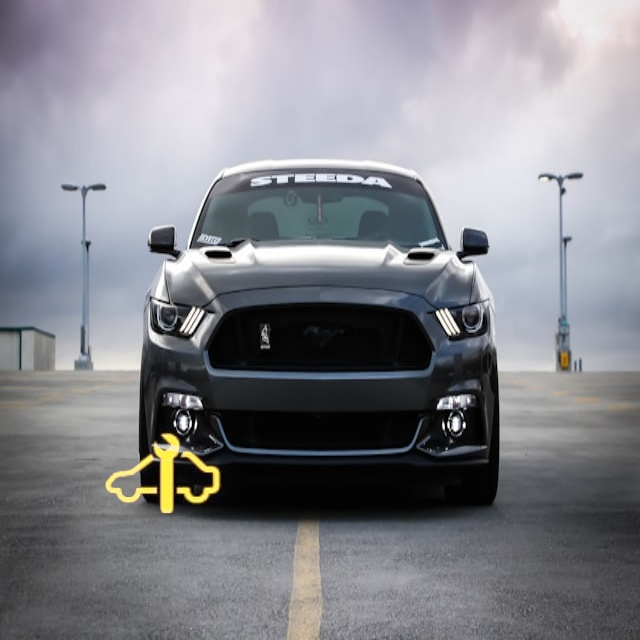symbol: (36, 14, 226, 204), (86, 400, 237, 551)
